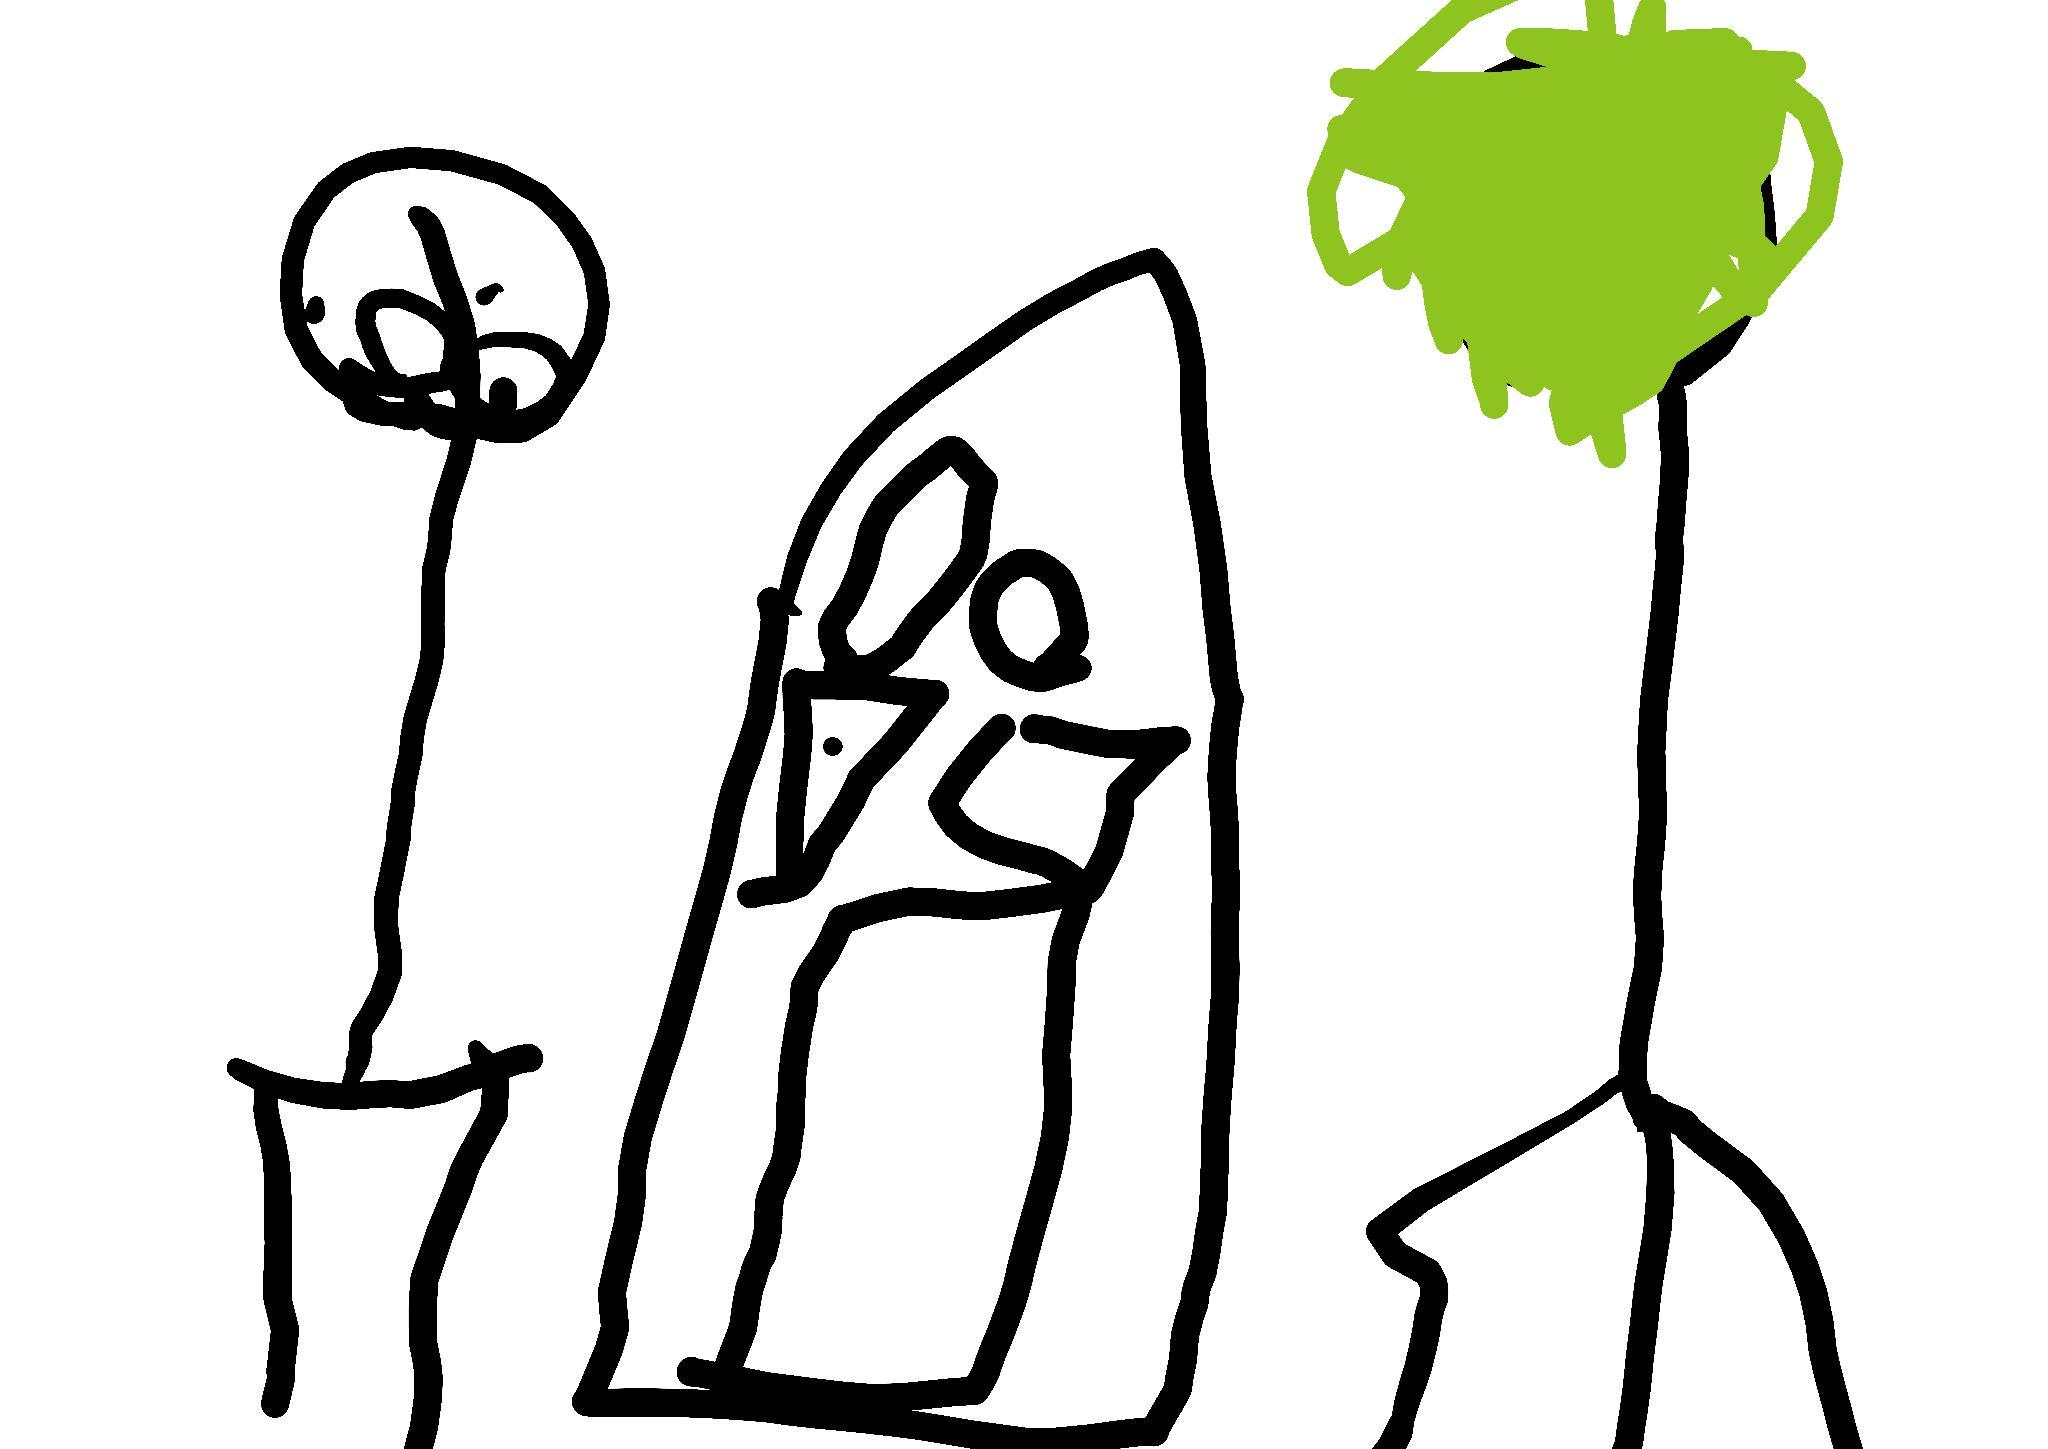door: (701, 889, 1088, 1405)
house: (576, 248, 1242, 1449)
wall: (577, 249, 1240, 1447)
window: (913, 698, 1187, 899), (808, 436, 1007, 693), (739, 671, 949, 906), (971, 547, 1088, 692)
